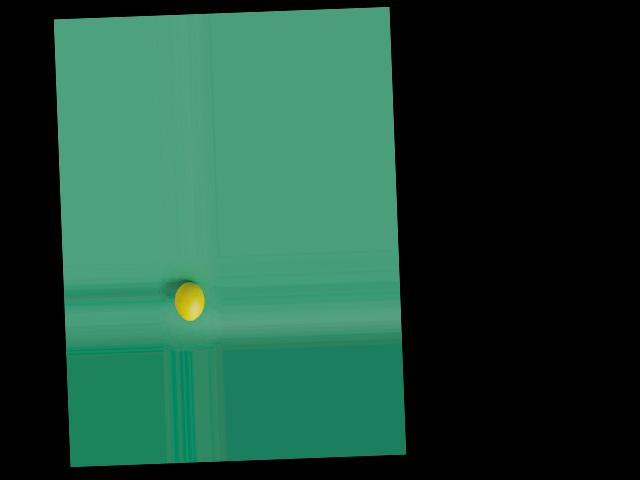egg: (175, 281, 206, 321)
